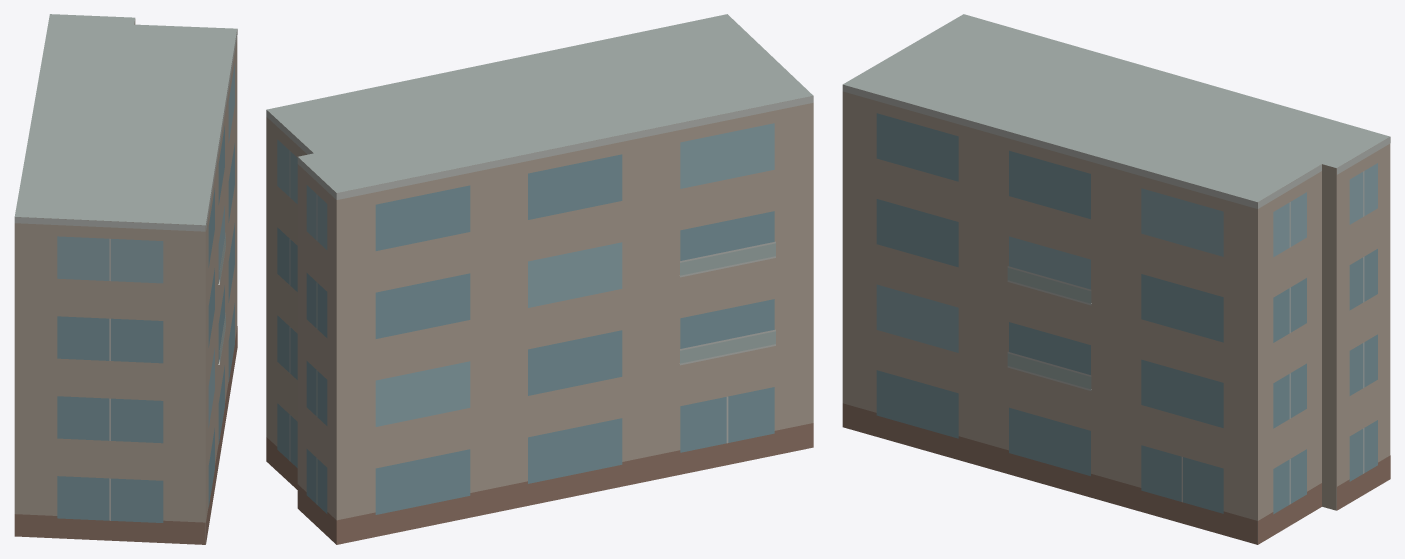
File: survey-upis-32701416.glb
3 views of the same model, side by side, from view 1: azimuth 30°, elevation 25°; view 2: azimuth 150°, elevation 25°; view 3: azimuth 270°, elevation 25° (orthographic). The views are drawn at different scales.
Visible parts, largest first — view 1: survey-upis-32701416.tmp; view 2: survey-upis-32701416.tmp; view 3: survey-upis-32701416.tmp.
Part boxes in pixels (x1,y1,x2,y2): survey-upis-32701416.tmp: (14, 14, 237, 544); survey-upis-32701416.tmp: (266, 14, 813, 544); survey-upis-32701416.tmp: (842, 14, 1390, 544).
Bounding box in the file's own units: 14.39 × 12.2 × 17.69.
